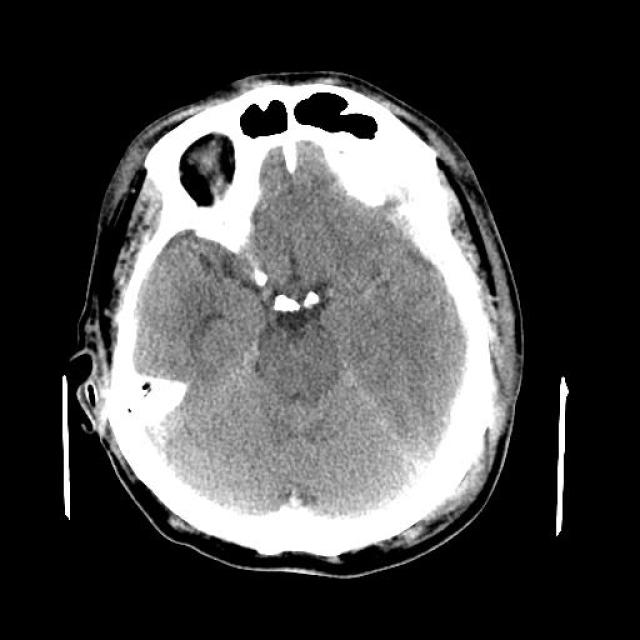Subdural: (340, 162, 481, 286)
